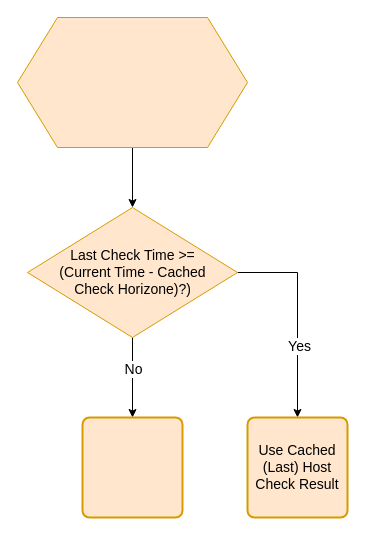
The diagram is 366 pixels wide and 536 high, and some of its shapes have lost their labels. The box of each missing label's shape, as (x1, y1, x2, y2) in pixels:
Execute Host Check via Plugin: (81, 416, 183, 518)
On-Demand Host Check Needed: (16, 16, 248, 148)
